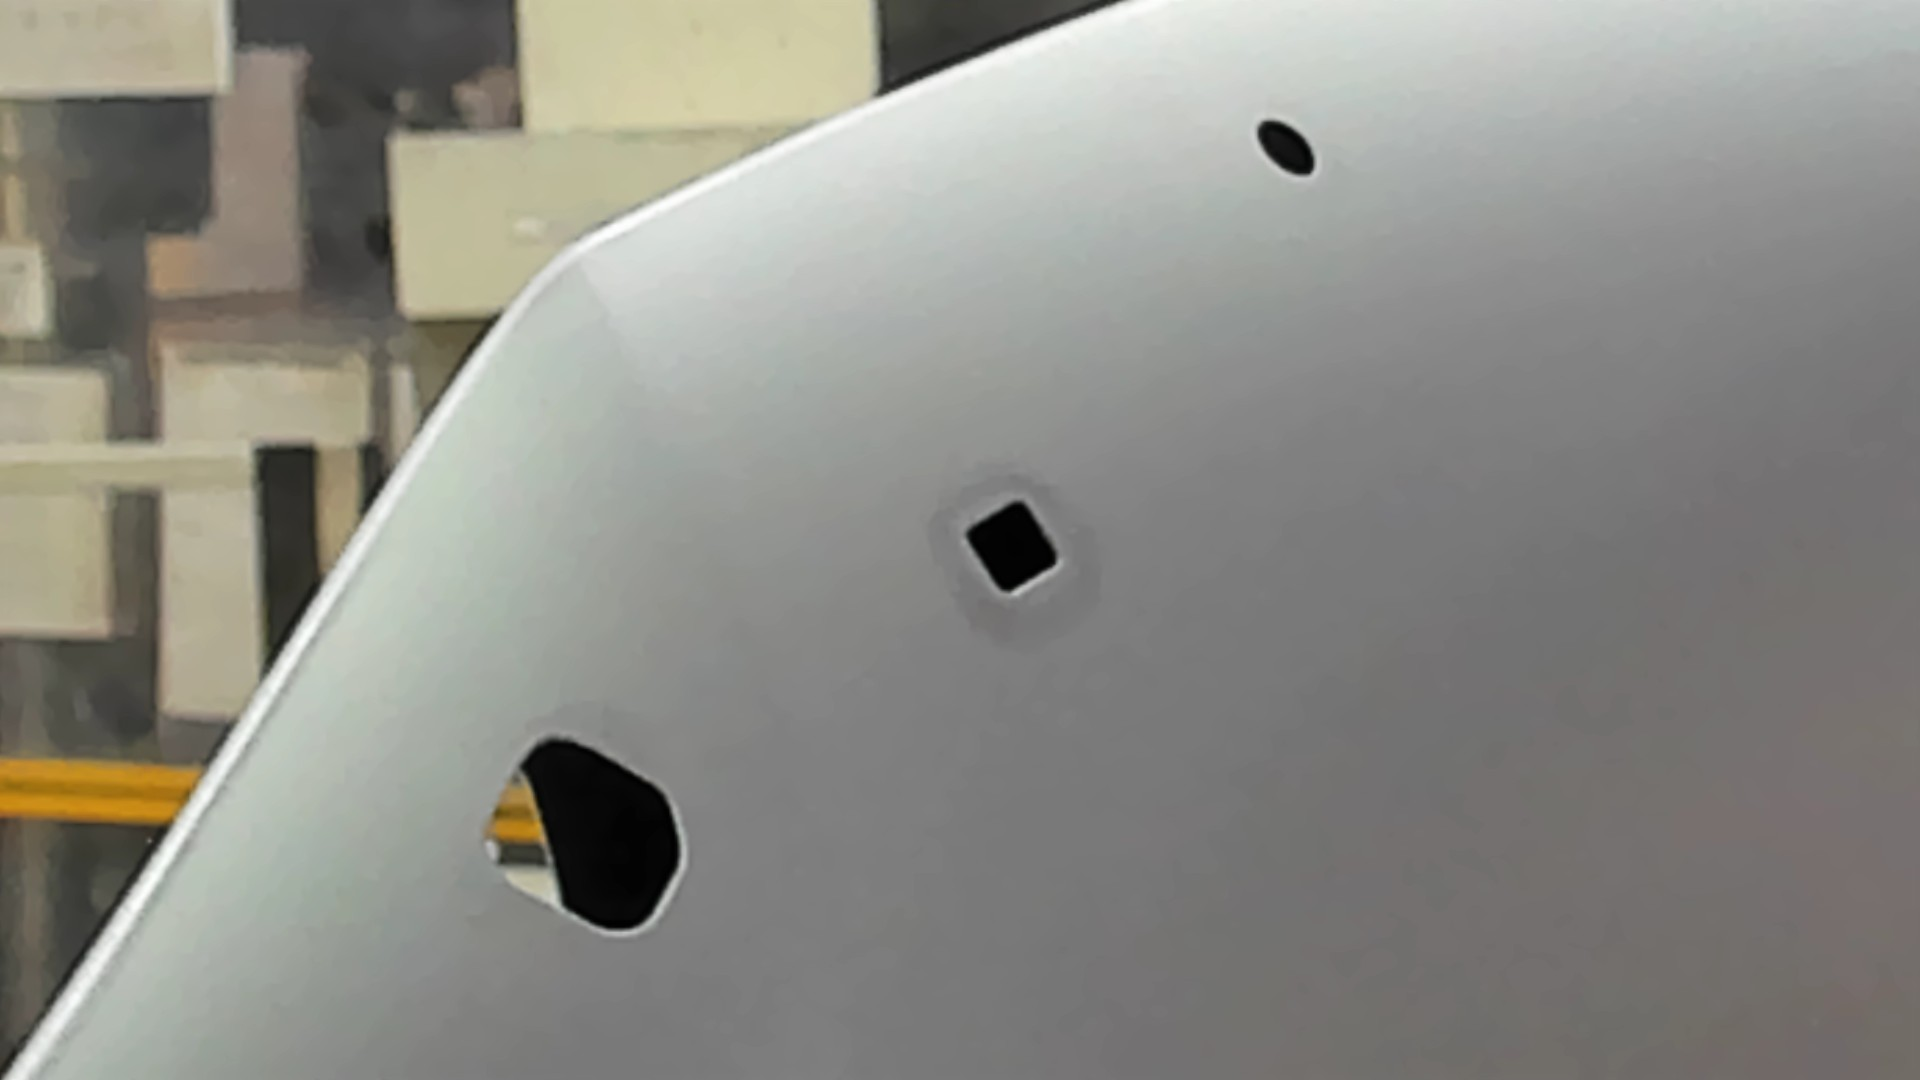capo: (1064, 185, 1920, 1080)
chico: (1255, 113, 1319, 183)
grande: (480, 732, 688, 945)
mediano: (963, 495, 1065, 603)
